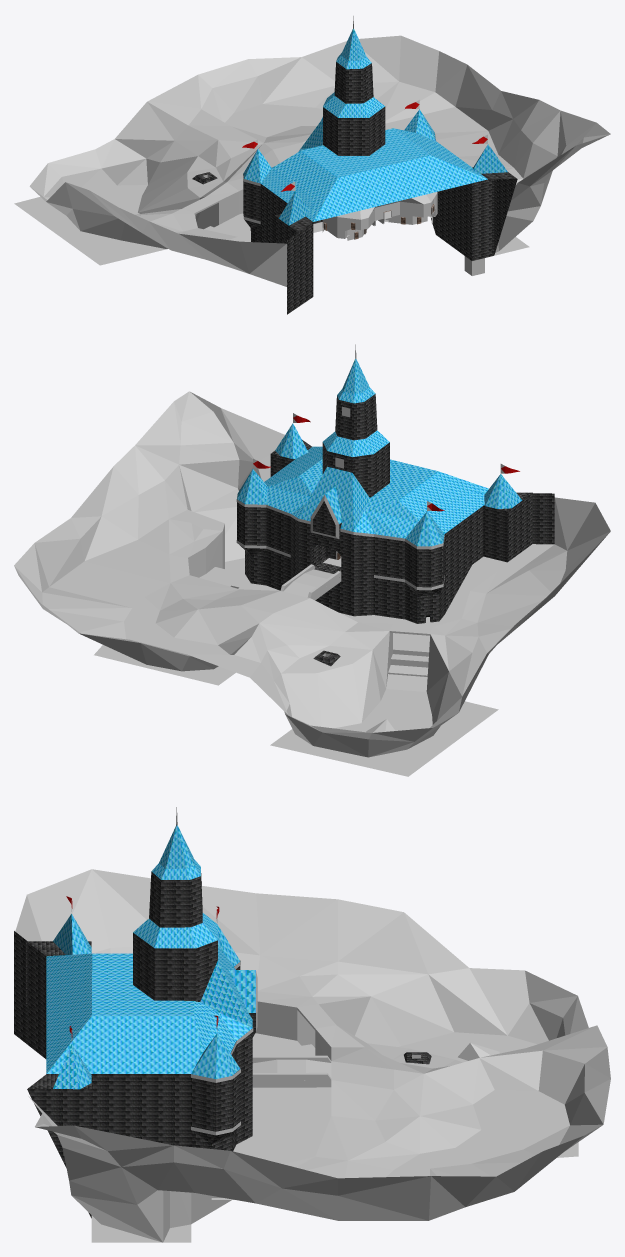
File: CastilloMaquetado2.fbx
3 renders of one model, top to bottom at view 1: azimuth 30°, elevation 25°; view 2: azimuth 150°, elevation 25°; view 3: azimuth 270°, elevation 25°, orthographic. The views are drawn at different scales.
Parts seen in each view (by area): view 1: Shape_IndexedFaceSet_136_Shape_IndexedFaceSet.258; view 2: Shape_IndexedFaceSet_136_Shape_IndexedFaceSet.258; view 3: Shape_IndexedFaceSet_136_Shape_IndexedFaceSet.258.
Part boxes in pixels (box(x1,y1,x2,y2)): Shape_IndexedFaceSet_136_Shape_IndexedFaceSet.258: box(14, 16, 610, 314); Shape_IndexedFaceSet_136_Shape_IndexedFaceSet.258: box(14, 344, 610, 776); Shape_IndexedFaceSet_136_Shape_IndexedFaceSet.258: box(14, 807, 610, 1242).
Bounding box in the file's own units: 9830 × 5977 × 8939.
